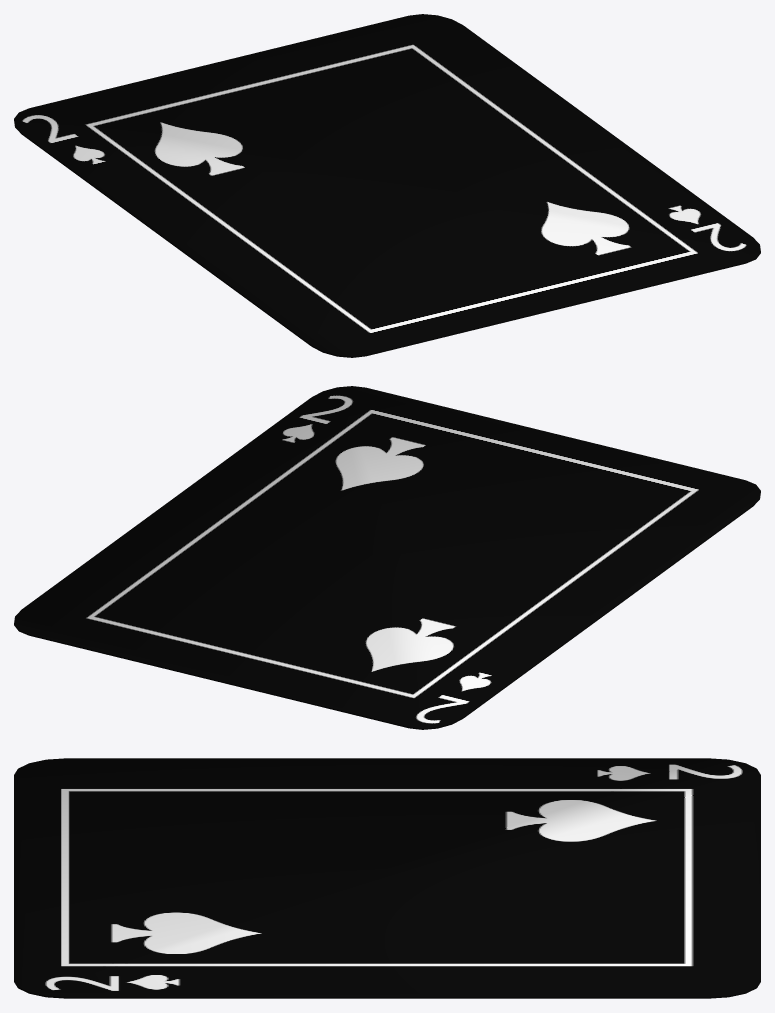
Rendered from Deux_de_pique.gltf.
3 views of the same model, one above another, from view 1: azimuth 30°, elevation 25°; view 2: azimuth 150°, elevation 25°; view 3: azimuth 270°, elevation 25° (orthographic). The views are drawn at different scales.
Parts seen in each view (by area): view 1: Plane.001; view 2: Plane.001; view 3: Plane.001.
Part boxes in pixels (bbox=[...]): Plane.001: bbox=[14, 14, 760, 357]; Plane.001: bbox=[14, 386, 760, 729]; Plane.001: bbox=[14, 758, 760, 998].
Bounding box in the file's own units: 3.59 × 0.01 × 4.74.
Materials: 2 (2 with a texture image).
